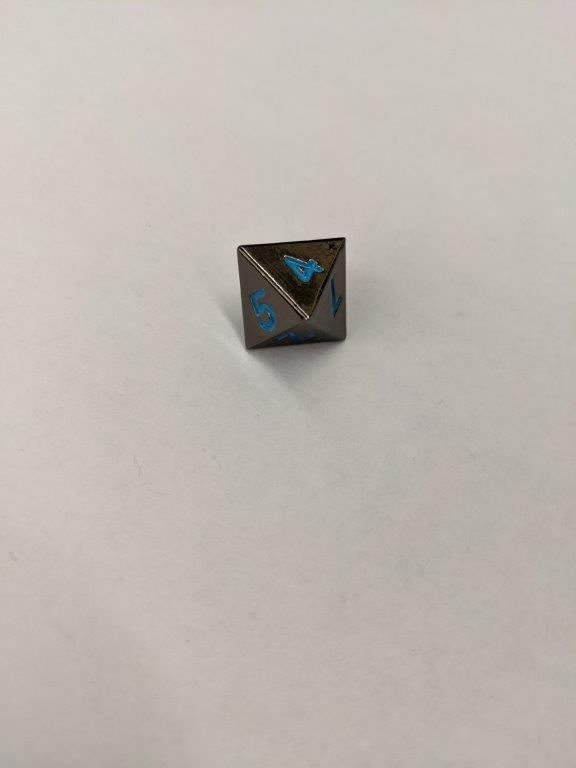d8-4: (237, 235, 351, 351)
